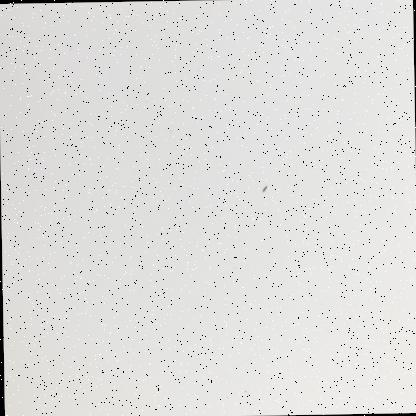Nocrack: (0, 7, 397, 415)
